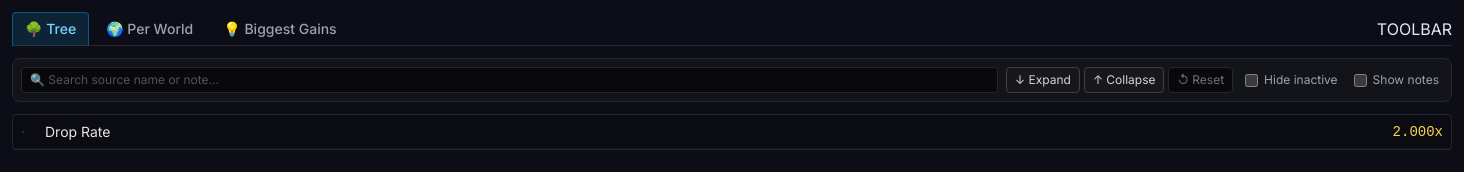
Test: DeepView — extra tabs with no tree › puts the tree toolbar after the tabs on the built-in views, once a tree is loaded
This screenshot has width=1464, height=172.
Click the button "💡 Biggest Gains". click: (280, 29)
box: x1=210 y1=12 x2=350 y2=46
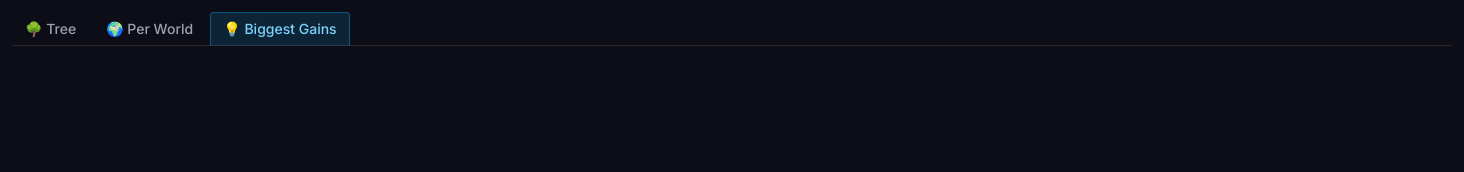
Expected: the text "TOOLBAR" is gone
